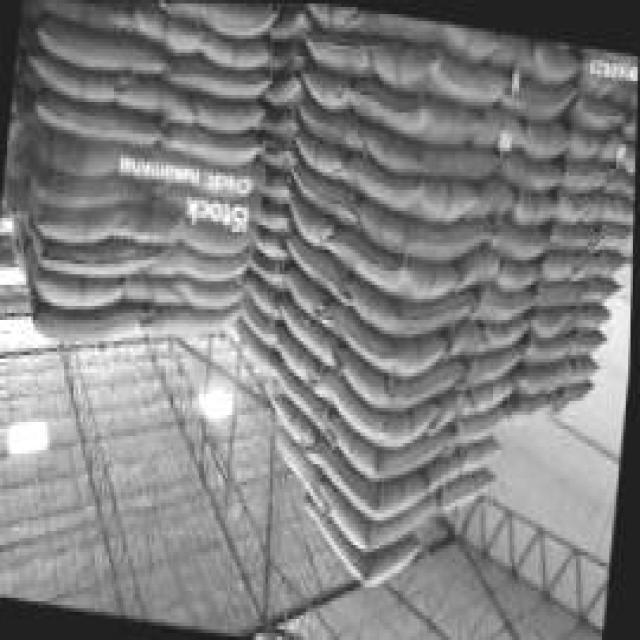gunny_bag: (22, 48, 178, 117), (302, 492, 415, 585), (327, 375, 460, 435), (372, 43, 505, 103), (331, 229, 452, 289), (322, 480, 435, 544), (342, 351, 465, 409), (349, 81, 478, 136), (364, 125, 491, 177), (40, 10, 157, 66), (353, 277, 471, 332), (345, 155, 470, 206), (37, 89, 153, 142), (333, 421, 445, 471), (363, 202, 475, 248), (163, 48, 262, 100), (265, 356, 329, 427), (287, 164, 355, 221), (287, 234, 346, 299), (39, 237, 142, 272), (170, 121, 256, 160), (270, 423, 317, 493), (278, 302, 332, 361), (41, 301, 137, 333), (168, 1, 262, 32), (499, 145, 561, 190), (155, 246, 246, 276), (507, 73, 575, 113), (153, 301, 235, 332), (43, 201, 114, 236), (298, 102, 357, 144), (293, 132, 342, 176), (445, 470, 495, 511), (475, 339, 519, 385), (311, 32, 365, 67), (464, 403, 509, 445), (480, 285, 537, 317), (487, 222, 543, 253), (38, 274, 111, 297), (520, 361, 567, 396), (516, 121, 565, 151), (549, 224, 596, 252), (579, 96, 621, 123), (609, 186, 636, 225), (527, 330, 572, 353), (579, 303, 611, 328), (565, 163, 601, 185)
